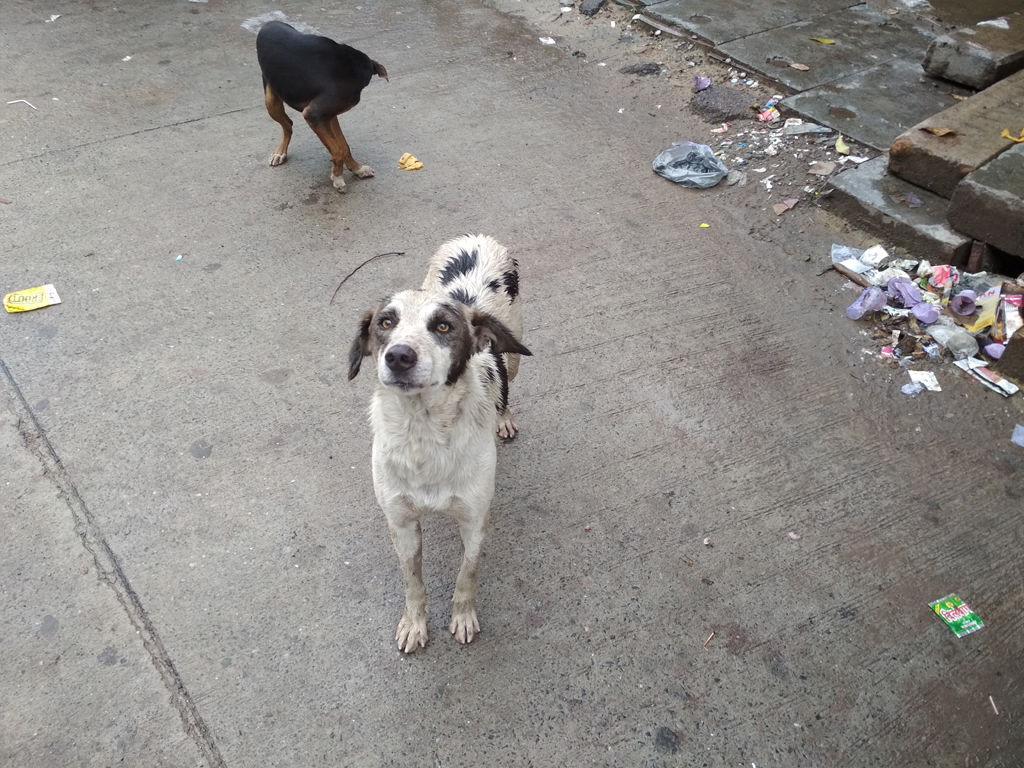dog: (349, 233, 531, 655), (256, 21, 390, 194)
